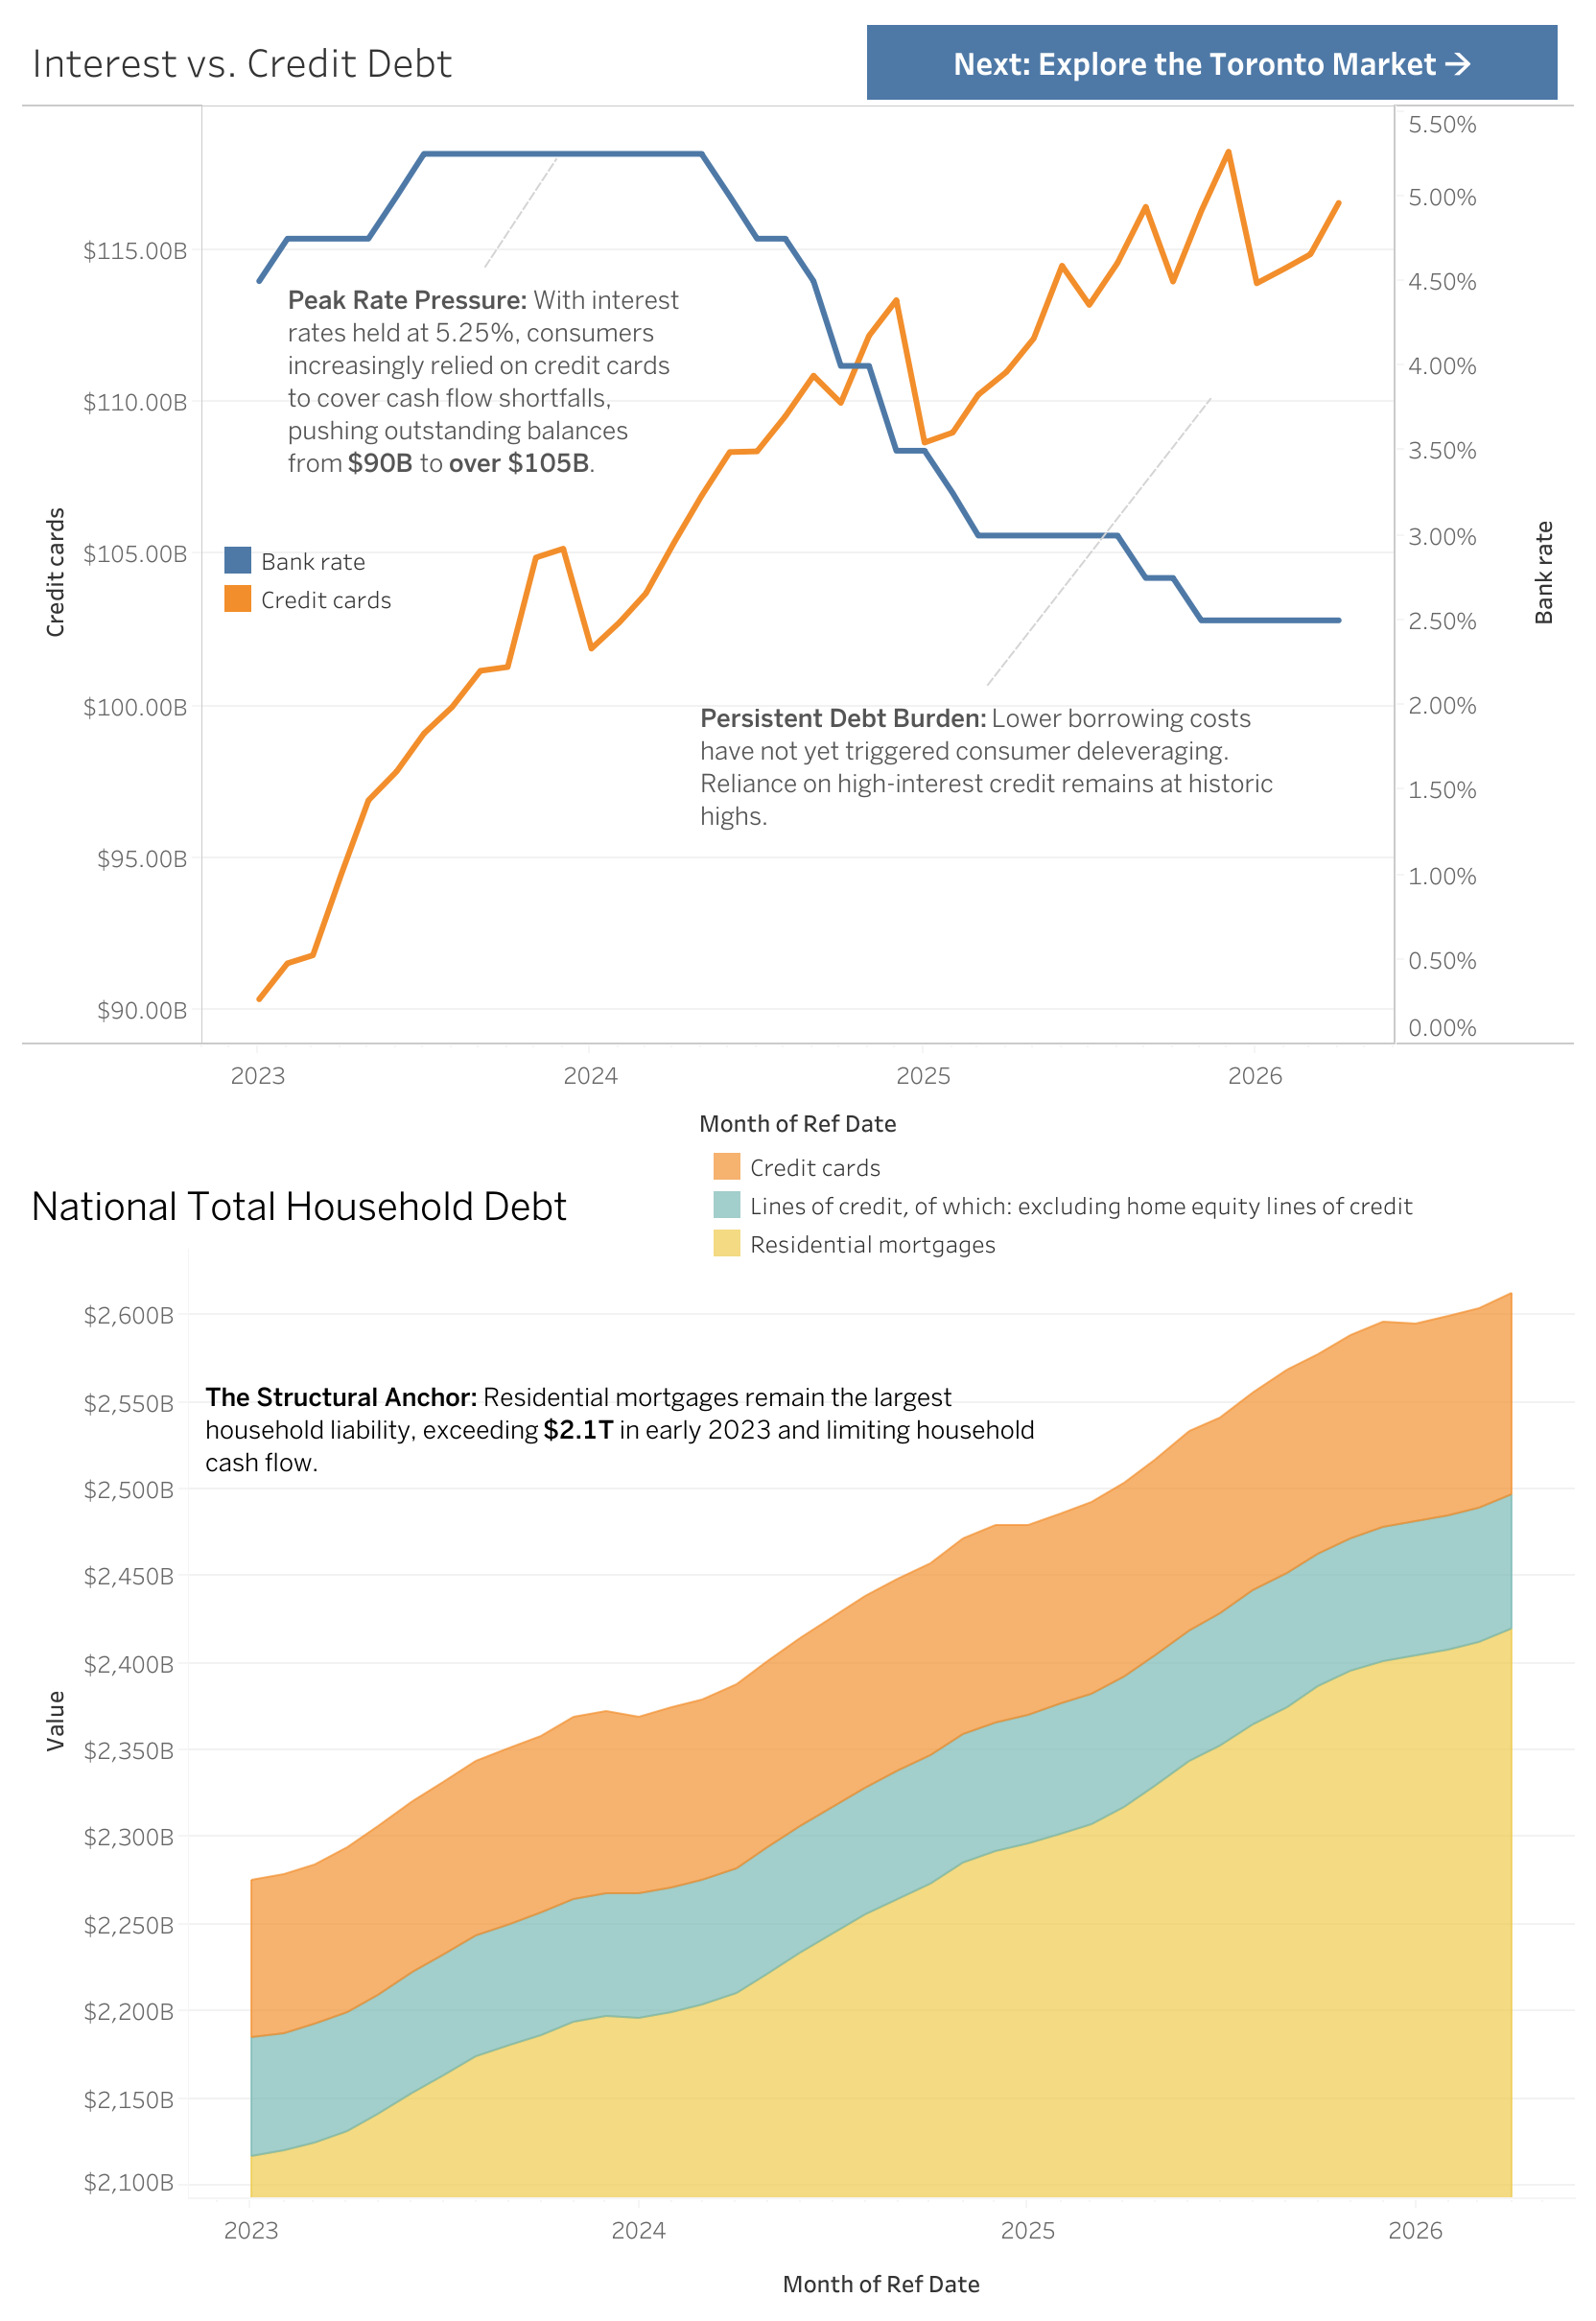

Layout of this report page (visuals, bound fields, positions):
{"tool":"tableau","page":{"name":"Macro Overview","canvas":[833,1211],"ordinal":3},"visuals":[{"type":"worksheet","title":"Interest vs. Credit Debt","mark":"Automatic","rows":["Credit cards","Bank rate"],"cols":["REF_DATE"],"box":[8,8,817,597.5]},{"type":"dashboard-object","box":[452,13,360,39]},{"type":"legend","title":"Interest vs. Credit Debt","param":"[federated.0n153dd09qbgb41crivlf0tpn9dp].[:Measure Names]","box":[114,282,113,67]},{"type":"legend","title":"The Debt Composition Shift ","param":"[federated.0n153dd09qbgb41crivlf0tpn9dp].[:Measure Names]","box":[369,598,374,83]},{"type":"worksheet","title":"The Debt Composition Shift ","mark":"Area","cols":["REF_DATE"],"box":[8,605.5,817,597.5]}]}

Visuals, with their boxes in screenshot pixels (x1, y1, x2, y2), scaled from the page's 833x1211 canvas onto the 1596x2321 screenshot:
"Interest vs. Credit Debt" worksheet: Rect(15, 15, 1581, 1160)
dashboard-object: Rect(866, 25, 1556, 100)
"Interest vs. Credit Debt" legend: Rect(219, 541, 434, 668)
"The Debt Composition Shift " legend: Rect(707, 1146, 1423, 1305)
"The Debt Composition Shift " worksheet (Area marks): Rect(15, 1160, 1581, 2306)
